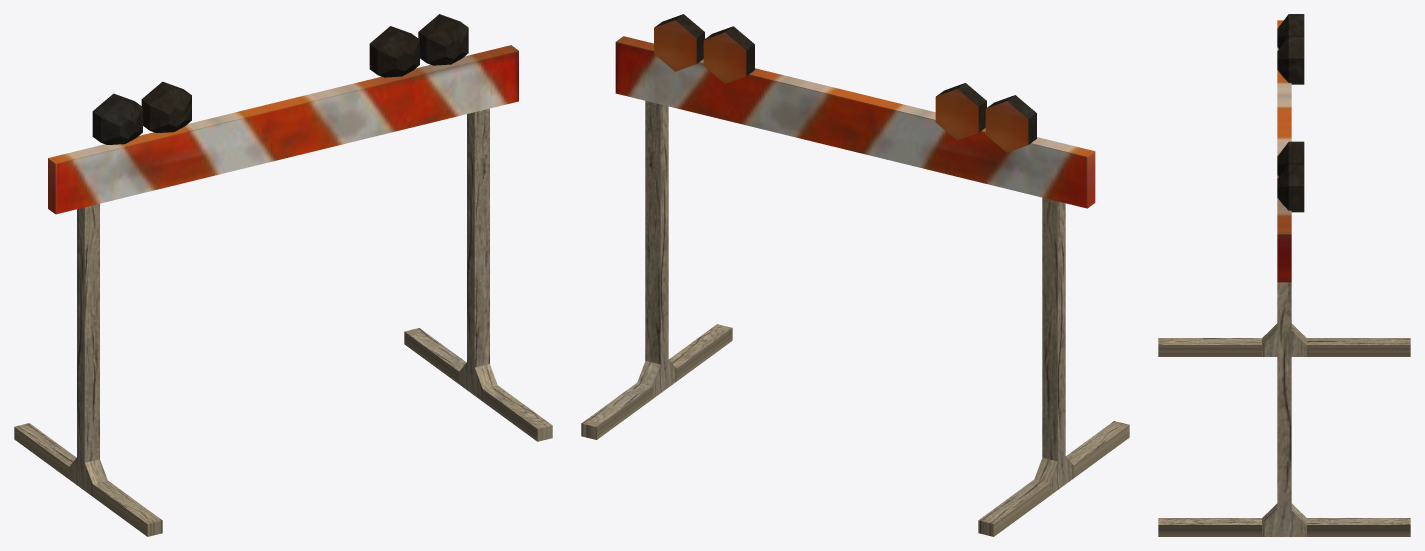
Rendered from sinal.fbx.
3 renders of one model, left to right at view 1: azimuth 30°, elevation 25°; view 2: azimuth 150°, elevation 25°; view 3: azimuth 270°, elevation 25°, orthographic. The views are drawn at different scales.
Parts seen in each view (by area): view 1: sing; view 2: sing; view 3: sing.
Boxes of the visible parts, x1,y1,x2,y2 form: sing: (14,14,552,536); sing: (581,14,1129,536); sing: (1158,14,1410,536).
Bounding box in the file's own units: 1.52 × 1.18 × 0.7573.
